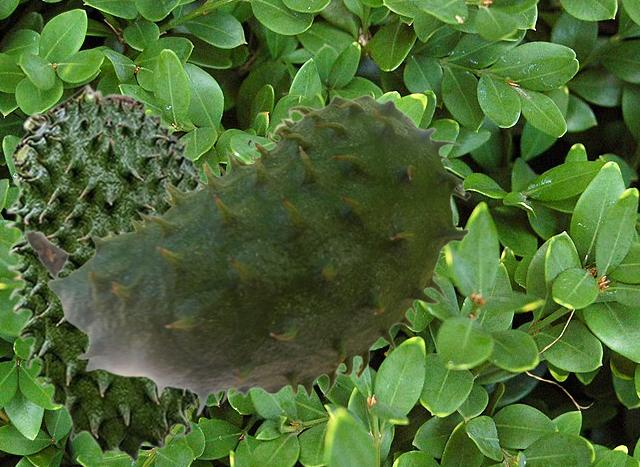guyabano: (24, 94, 470, 416), (4, 82, 210, 462)
